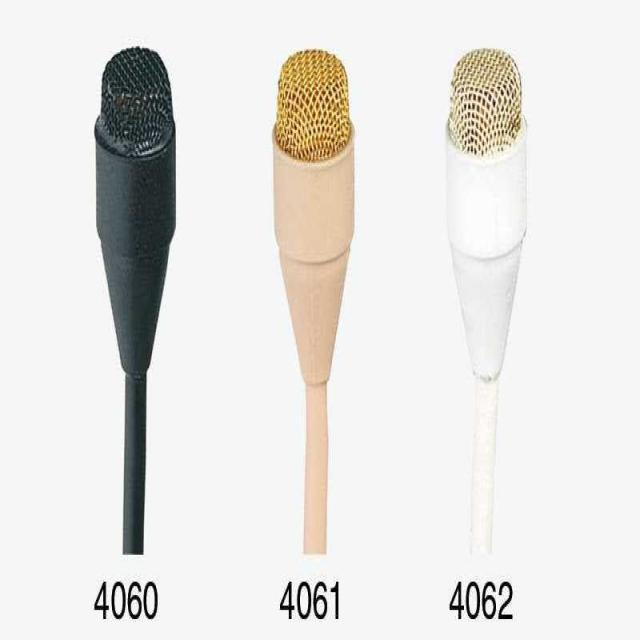microphone: (91, 41, 179, 559), (445, 49, 530, 563), (272, 50, 356, 560)
